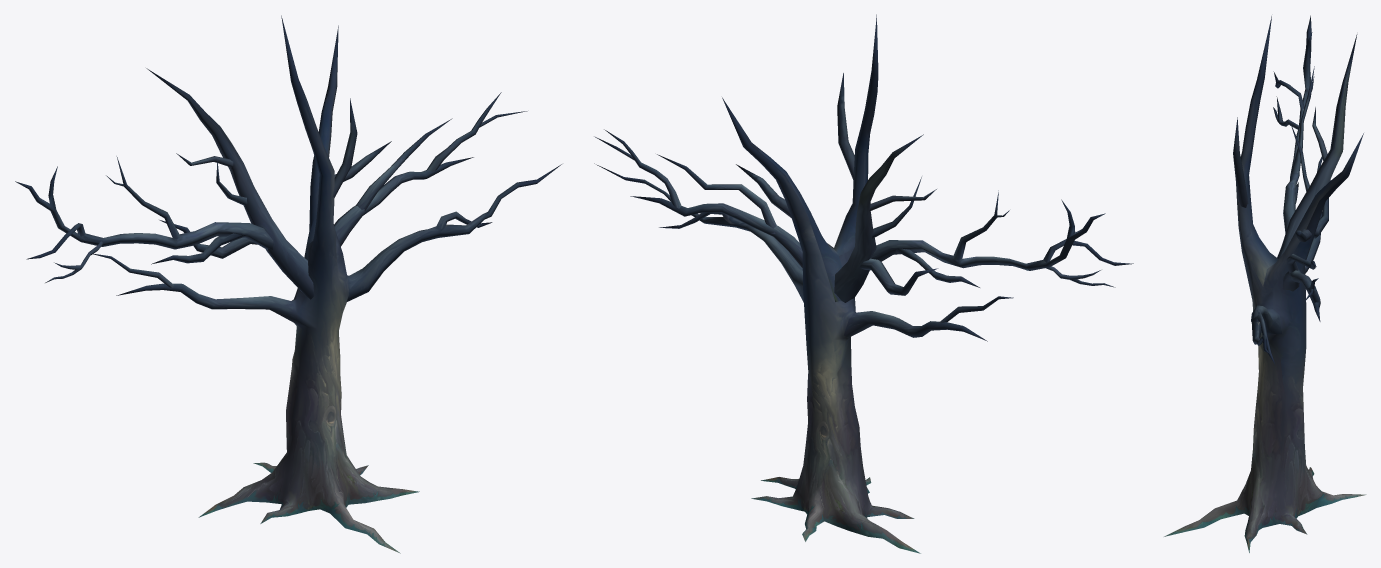
The model's file is shugan.FBX.
3 views of the same model, side by side, from view 1: azimuth 30°, elevation 25°; view 2: azimuth 150°, elevation 25°; view 3: azimuth 270°, elevation 25° (orthographic). The views are drawn at different scales.
Visible parts, largest first — view 1: sucai_17; view 2: sucai_17; view 3: sucai_17.
Part boxes in pixels (x1,y1,x2,y2): sucai_17: [15, 15, 561, 553]; sucai_17: [594, 14, 1133, 553]; sucai_17: [1164, 15, 1366, 552].
Size of the model in its own units: 1017 by 931 by 349.
